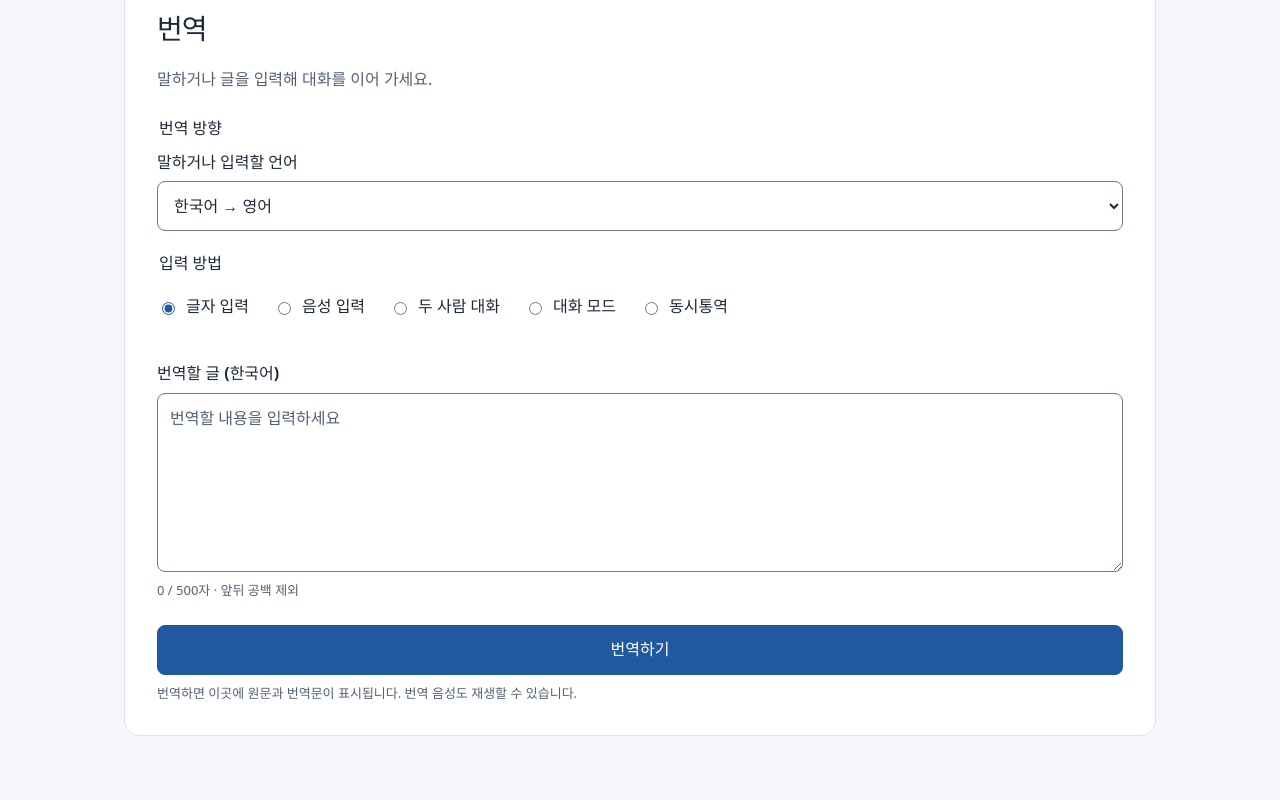
authentication screens and routes › uses the actual translation endpoint when the demo is disabled and returns to login on expired auth
(page scrolled)
expect the heading "번역" is shown: met, box top-left (157, 9), bottom-right (206, 47)
Type "안녕하세요" into the text box labelled "번역할 글 (한국어)".
click(640, 482); type("안녕하세요")  # box top-left (157, 393), bottom-right (1123, 572)
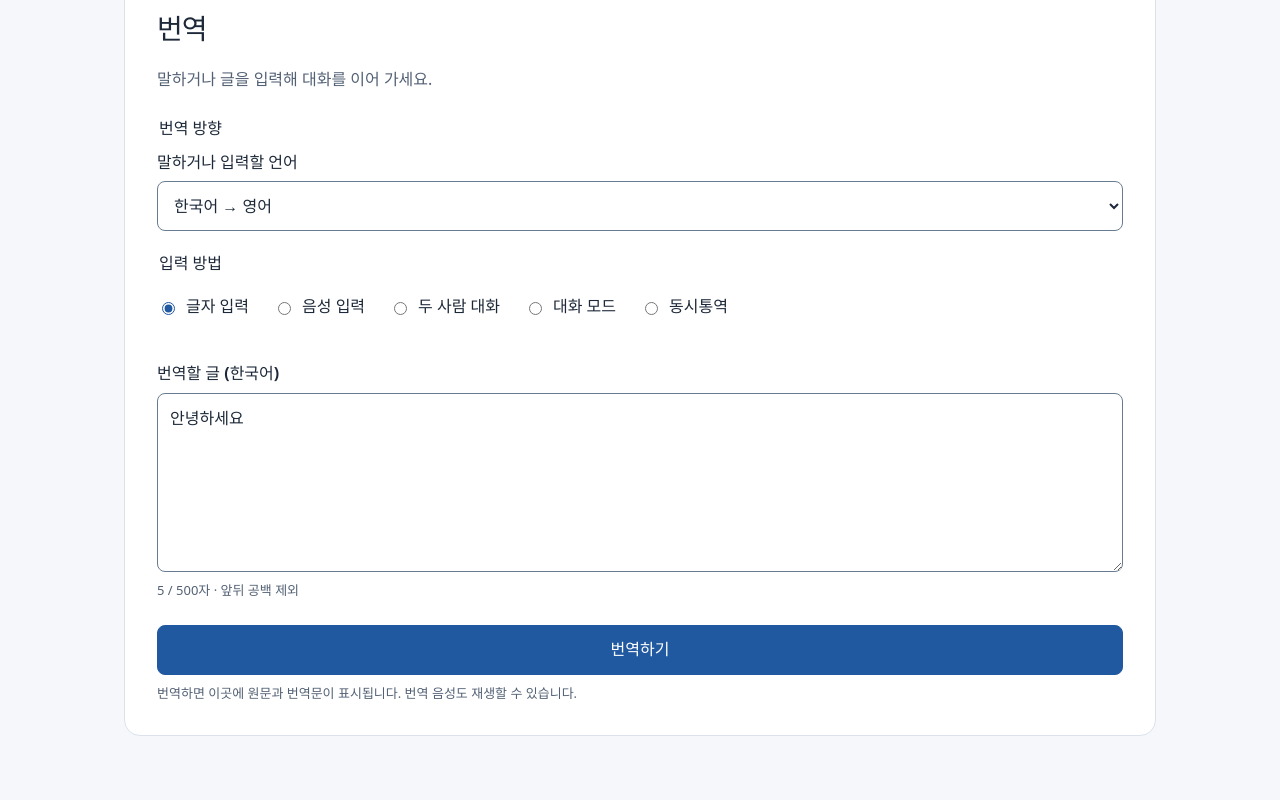
Click the button "번역하기".
click(640, 650)  # box top-left (157, 625), bottom-right (1123, 674)
(page scrolled)
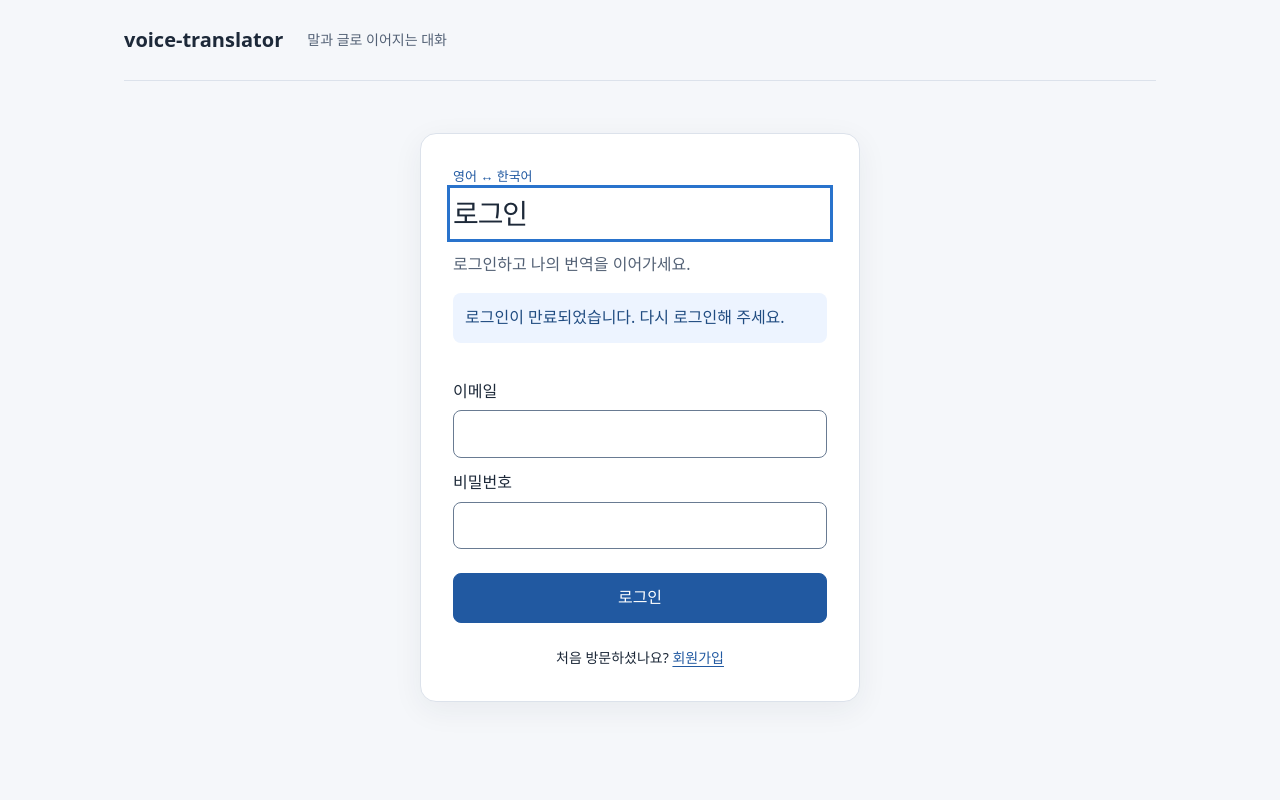
expect the heading "로그인" is shown: met, box top-left (453, 194), bottom-right (527, 232)
